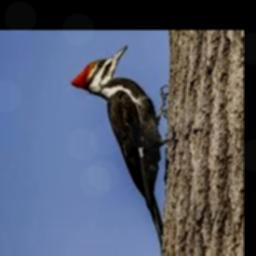Woodpecker: (70, 44, 170, 250)
